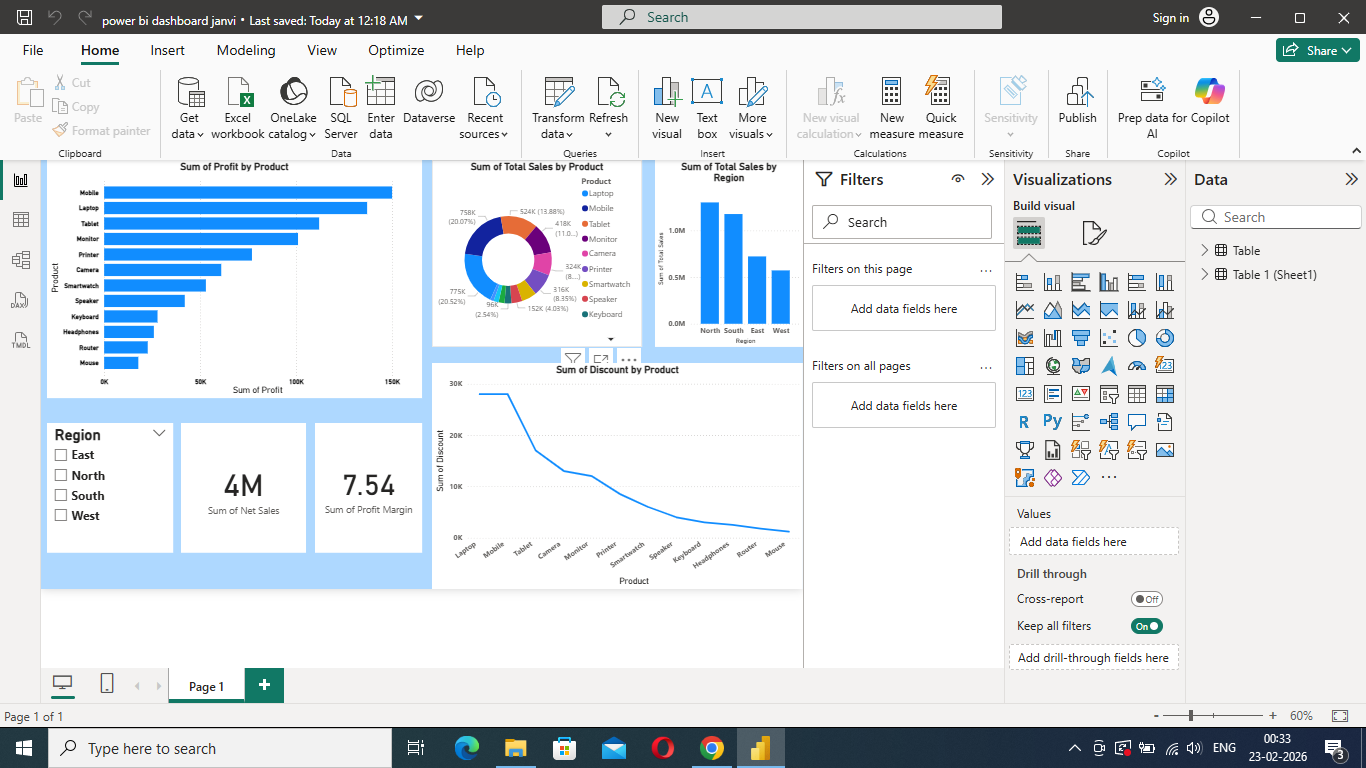

The page's visual inventory and layout, read from the dashboard file:
{"tool":"powerbi","page":{"name":"Page 1","canvas":[1280,720],"ordinal":0},"visuals":[{"type":"barChart","fields":{"Category":["Table 1 (Sheet1).Product"],"Y":["Sum(Table 1 (Sheet1).Profit)"]},"box":[10.1,0,629.9,399.8],"z":0},{"type":"slicer","fields":{"Values":["Table 1 (Sheet1).Region"]},"box":[10.1,441.8,211.7,218.4],"z":1000},{"type":"donutChart","fields":{"Y":["Sum(Table 1 (Sheet1).Total Sales)"],"Category":["Table 1 (Sheet1).Product"]},"box":[656.8,0,352.8,314.1],"z":2000},{"type":"card","fields":{"Values":["Sum(Table 1 (Sheet1).Net Sales)"]},"box":[235.2,441.8,210,218.4],"z":3000},{"type":"card","fields":{"Values":["Sum(Table 1 (Sheet1).Profit Margin)"]},"box":[460.3,441.8,179.7,218.4],"z":4000},{"type":"lineChart","fields":{"Y":["Sum(Table 1 (Sheet1).Discount)"],"Category":["Table 1 (Sheet1).Product"]},"box":[656.8,341,623.2,379.6],"z":5000},{"type":"columnChart","fields":{"Category":["Table 1 (Sheet1).Region"],"Y":["Sum(Table 1 (Sheet1).Total Sales)"]},"box":[1031.4,0,248.6,314.1],"z":6000}]}

Visuals, with their boxes in screenshot pixels (x1, y1, x2, y2):
barChart - Table 1 (Sheet1).Product x Sum(Table 1 (Sheet1).Profit): 39:25:702:446
slicer - Table 1 (Sheet1).Region: 39:490:262:720
donutChart - Sum(Table 1 (Sheet1).Total Sales) x Table 1 (Sheet1).Product: 720:25:1091:355
card - Sum(Table 1 (Sheet1).Net Sales): 276:490:497:720
card - Sum(Table 1 (Sheet1).Profit Margin): 513:490:702:720
lineChart - Sum(Table 1 (Sheet1).Discount) x Table 1 (Sheet1).Product: 720:384:1365:767
columnChart - Table 1 (Sheet1).Region x Sum(Table 1 (Sheet1).Total Sales): 1114:25:1365:355
